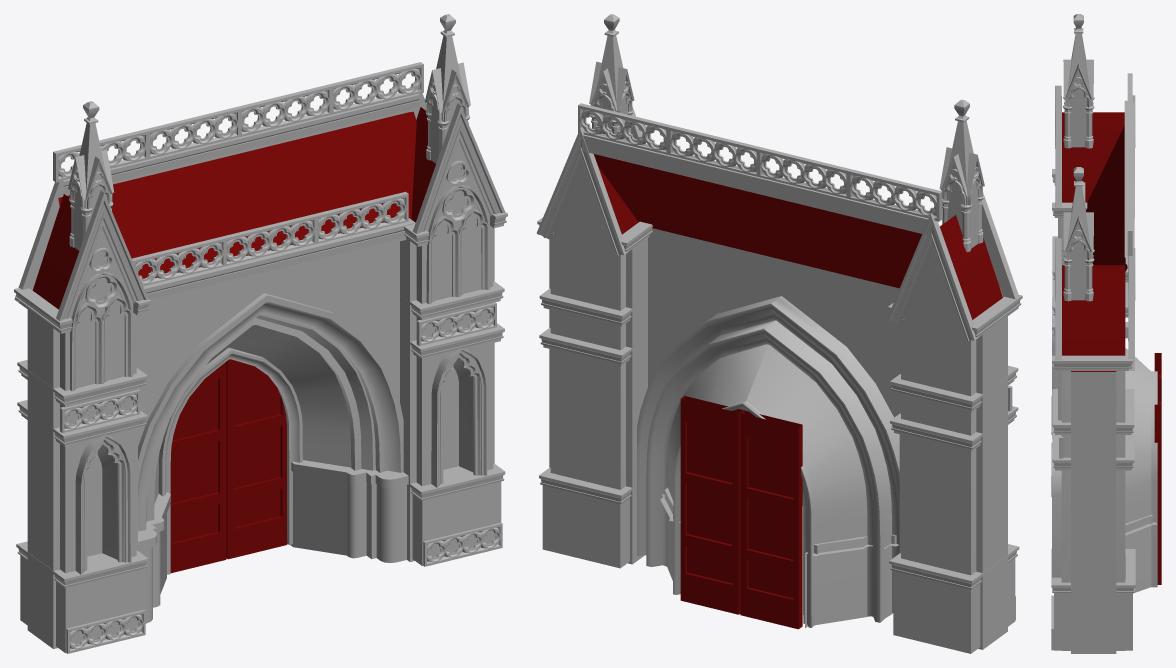
File: entrance_004.glb
3 views of the same model, side by side, from view 1: azimuth 30°, elevation 25°; view 2: azimuth 150°, elevation 25°; view 3: azimuth 270°, elevation 25° (orthographic). The views are drawn at different scales.
Visible parts, largest first — view 1: entrance_004; view 2: entrance_004; view 3: entrance_004.
Boxes of the visible parts, x1=… form: entrance_004: x1=14, y1=14, x2=507, y2=653; entrance_004: x1=536, y1=14, x2=1022, y2=653; entrance_004: x1=1051, y1=14, x2=1161, y2=653.
Bounding box in the file's own units: 4.01 × 4.56 × 0.9757.
